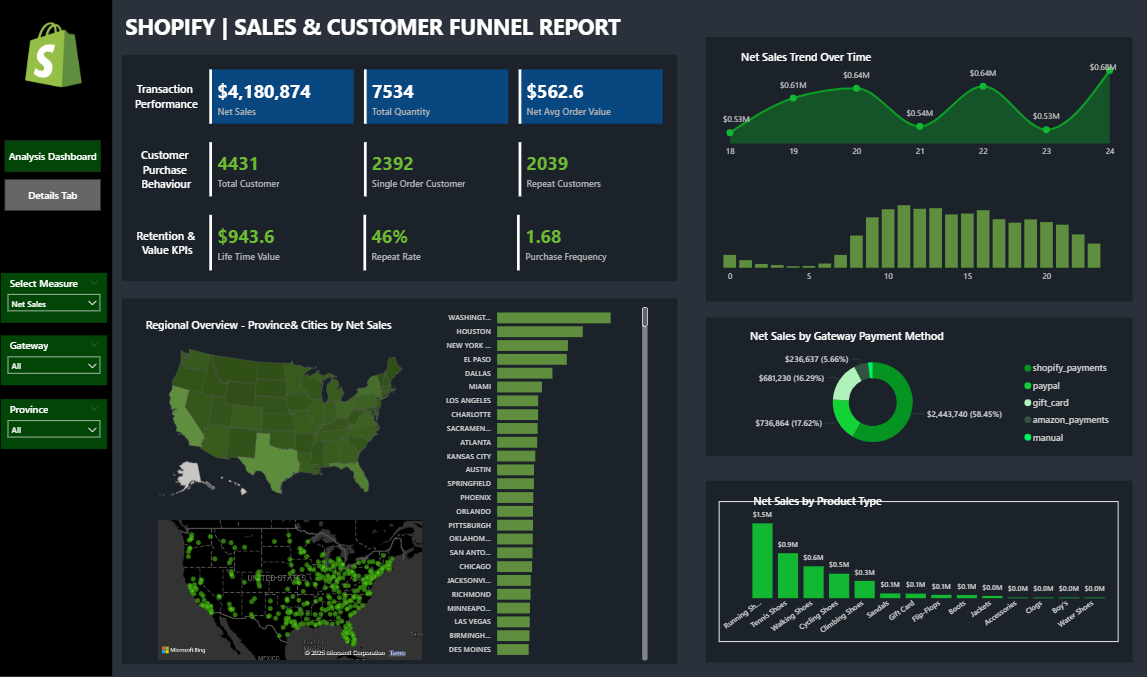

The dashboard page shown, as its layout file describes it:
{"tool":"powerbi","page":{"name":"Analysis Dashboard","canvas":[1700,1000],"ordinal":0},"visuals":[{"type":"shape","box":[0,0,170,999.1],"z":0},{"type":"textbox","box":[184.4,13.2,782.7,67.7],"z":1000},{"type":"shape","box":[184,80,820,334],"z":2000},{"type":"cardVisual","fields":{"Data":["shopify_sales.Net Sales","shopify_sales.Total Quantity","shopify_sales.Net Avg Order Value"]},"box":[309.2,97.5,679.2,90.3],"z":3000},{"type":"card","fields":{"Values":["shopify_sales.Transaction perf"]},"box":[175.6,80.6,150.5,122.3],"z":4000},{"type":"cardVisual","fields":{"Data":["shopify_sales.Total Customer","shopify_sales.Single Order Customer","shopify_sales.Repeat Customers"]},"box":[307.6,204.8,679.2,90.3],"z":5000},{"type":"card","fields":{"Values":["shopify_sales.cpv"]},"box":[174.7,182.7,150,130],"z":6000},{"type":"cardVisual","fields":{"Data":["shopify_sales.Life Time Value","shopify_sales.Repeat Rate","shopify_sales.Purchase Frequency"]},"box":[308,312,678,92],"z":7000},{"type":"card","fields":{"Values":["shopify_sales.rvk"]},"box":[184,294,134,130],"z":8000},{"type":"shape","box":[184,440,820,540],"z":9000},{"type":"shapeMap","fields":{"Value":["shopify_sales.Net Sales"],"Category":["shopify_sales.Billing Address Province"]},"box":[192.8,499.2,454.5,249.6],"z":10000},{"type":"slicer","fields":{"Values":["Parameter.Parameter"]},"box":[5.2,402.8,156.7,74],"z":11000},{"type":"map","fields":{"Category":["shopify_sales.Location"]},"box":[234.1,762.6,399.4,216.9],"z":12000},{"type":"clusteredBarChart","fields":{"Y":["shopify_sales.Net Sales"],"Category":["shopify_sales.CITY"]},"box":[646,440,320,540],"z":13000},{"type":"card","fields":{"Values":["shopify_sales.Map Title"]},"box":[192.8,449.3,418.3,63.7],"z":14000},{"type":"shape","box":[1046.7,55.1,630.1,390.8],"z":15000},{"type":"areaChart","fields":{"Y":["shopify_sales.Net Sales"],"Category":["shopify_sales.Invoice Date.Variation.Date Hierarchy.Day"]},"box":[1067.3,80.9,590.5,160.1],"z":16000},{"type":"columnChart","fields":{"Y":["shopify_sales.Net Sales"],"Category":["shopify_sales.Hour"]},"box":[1067.3,265.1,590.5,160.1],"z":17000},{"type":"card","fields":{"Values":["shopify_sales.Trend title"]},"box":[986.4,55.1,416.6,63.7],"z":18000},{"type":"shape","box":[1046.7,468.2,630.1,204.9],"z":19000},{"type":"donutChart","fields":{"Y":["shopify_sales.Net Sales"],"Category":["shopify_sales.Gateway"]},"box":[1065.6,513,590.5,160.1],"z":20000},{"type":"card","fields":{"Values":["shopify_sales.Gateway Title"]},"box":[1046.7,466.5,416.6,63.7],"z":21000},{"type":"shape","box":[1046.7,709.3,630.1,268.6],"z":22000},{"type":"columnChart","fields":{"Y":["shopify_sales.Net Sales"],"Category":["shopify_sales.Product Type"]},"box":[1065.6,740.2,590.5,206.6],"z":23000},{"type":"card","fields":{"Values":["shopify_sales.Product Title"]},"box":[1003.6,709.3,416.6,63.7],"z":24000},{"type":"image","box":[32.7,27.5,103.3,105],"z":25000},{"type":"slicer","fields":{"Values":["shopify_sales.Gateway"]},"box":[5.2,494.1,156.7,74],"z":26000},{"type":"slicer","fields":{"Values":["shopify_sales.Billing Address Province"]},"box":[5.2,588.8,156.7,74],"z":27000},{"type":"pageNavigator","box":[11.3,207,143,105.4],"z":27001}]}

Visuals, with their boxes on the page's 1700x1000 design canvas (x1, y1, x2, y2). These are canvas units, not pixel positions in the 1147x677 screenshot, which may show the page scaled, cropped or inside an application window:
shape: <box>0,0,170,999</box>
textbox: <box>184,13,967,81</box>
shape: <box>184,80,1004,414</box>
cardVisual - shopify_sales.Net Sales x shopify_sales.Total Quantity: <box>309,98,988,188</box>
card - shopify_sales.Transaction perf: <box>176,81,326,203</box>
cardVisual - shopify_sales.Total Customer x shopify_sales.Single Order Customer: <box>308,205,987,295</box>
card - shopify_sales.cpv: <box>175,183,325,313</box>
cardVisual - shopify_sales.Life Time Value x shopify_sales.Repeat Rate: <box>308,312,986,404</box>
card - shopify_sales.rvk: <box>184,294,318,424</box>
shape: <box>184,440,1004,980</box>
shapeMap - shopify_sales.Net Sales x shopify_sales.Billing Address Province: <box>193,499,647,749</box>
slicer - Parameter.Parameter: <box>5,403,162,477</box>
map - shopify_sales.Location: <box>234,763,634,980</box>
clusteredBarChart - shopify_sales.Net Sales x shopify_sales.CITY: <box>646,440,966,980</box>
card - shopify_sales.Map Title: <box>193,449,611,513</box>
shape: <box>1047,55,1677,446</box>
areaChart - shopify_sales.Net Sales x shopify_sales.Invoice Date.Variation.Date Hierarchy.Day: <box>1067,81,1658,241</box>
columnChart - shopify_sales.Net Sales x shopify_sales.Hour: <box>1067,265,1658,425</box>
card - shopify_sales.Trend title: <box>986,55,1403,119</box>
shape: <box>1047,468,1677,673</box>
donutChart - shopify_sales.Net Sales x shopify_sales.Gateway: <box>1066,513,1656,673</box>
card - shopify_sales.Gateway Title: <box>1047,466,1463,530</box>
shape: <box>1047,709,1677,978</box>
columnChart - shopify_sales.Net Sales x shopify_sales.Product Type: <box>1066,740,1656,947</box>
card - shopify_sales.Product Title: <box>1004,709,1420,773</box>
image: <box>33,28,136,132</box>
slicer - shopify_sales.Gateway: <box>5,494,162,568</box>
slicer - shopify_sales.Billing Address Province: <box>5,589,162,663</box>
pageNavigator: <box>11,207,154,312</box>
